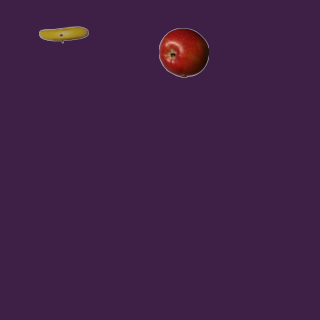Apple Braeburn: (158, 27, 208, 77)
Banana: (38, 9, 88, 59)
